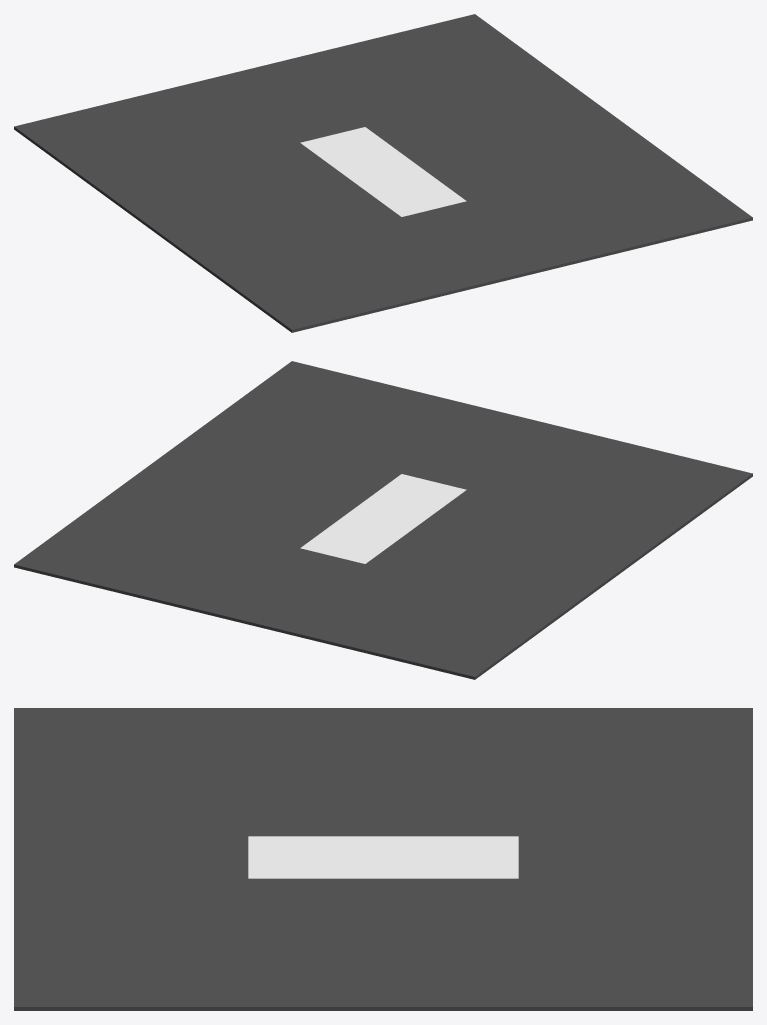
File: road.fbx
3 renders of one model, top to bottom at view 1: azimuth 30°, elevation 25°; view 2: azimuth 150°, elevation 25°; view 3: azimuth 270°, elevation 25°, orthographic. The views are drawn at different scales.
Parts seen in each view (by area): view 1: Road; view 2: Road; view 3: Road.
Boxes of the visible parts, x1,y1,x2,y2 form: Road: (14,14,752,332); Road: (14,361,752,679); Road: (14,708,752,1010).
Bounding box in the file's own units: 390 × 2.38 × 407.
